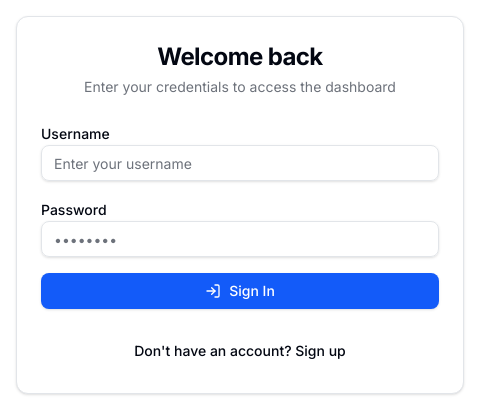
Test case: auth UI finish-offs › shows spinner while signing in
Type "u" into the field labelled "Username" at [240, 163], box 41,145 -> 439,181
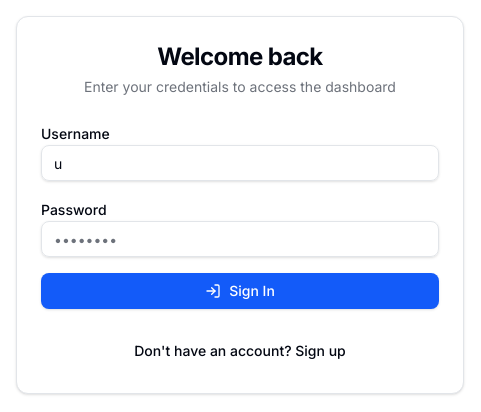
Type "p" into the password field labelled "Password" at [240, 239], box 41,221 -> 439,257
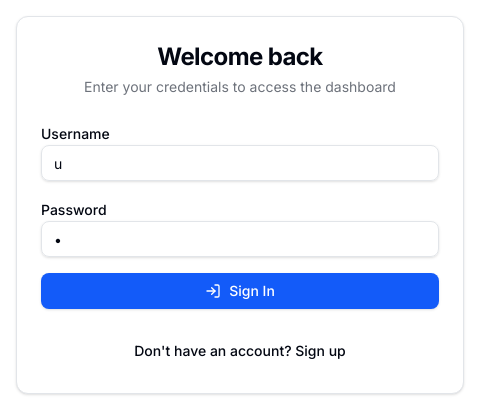
Click the button "Sign In" at [240, 291], box 41,273 -> 439,309
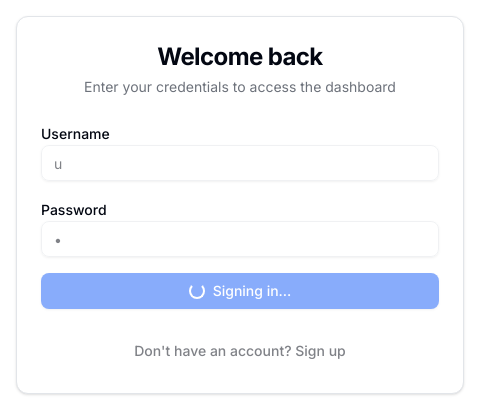
Now the text "Signing in..." is shown, box 189,281 -> 291,301
